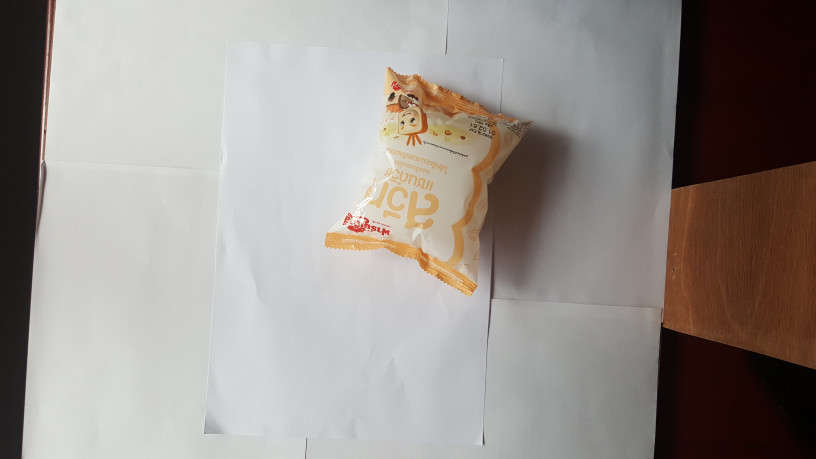farmhouse-sweetsandwich-almond: (319, 62, 535, 302)
